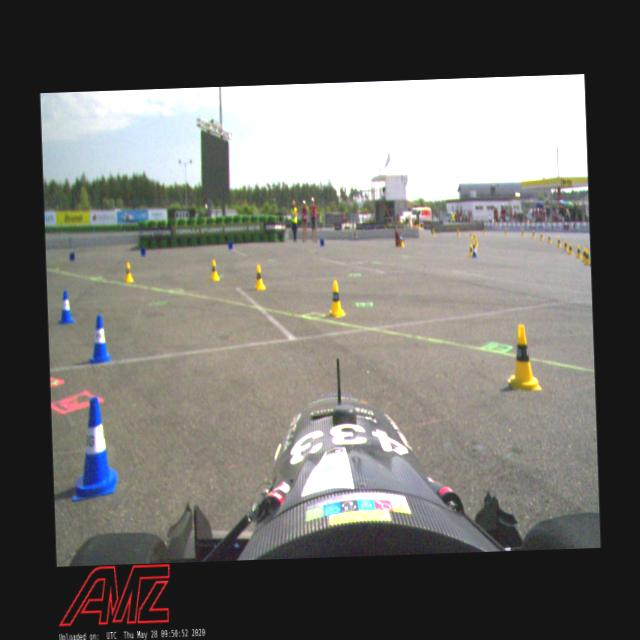blue_cone: (68, 396, 118, 502), (86, 314, 111, 364), (57, 288, 75, 324), (471, 244, 476, 258), (69, 252, 74, 261), (140, 247, 145, 256), (228, 241, 232, 249), (320, 238, 324, 246)
yellow_cone: (504, 322, 542, 390), (326, 279, 344, 318), (253, 264, 265, 290), (208, 258, 220, 280), (122, 261, 132, 281), (584, 248, 590, 264), (468, 242, 473, 256), (582, 247, 586, 261), (576, 244, 580, 258), (568, 242, 572, 255), (563, 239, 567, 251), (548, 233, 552, 243), (557, 236, 561, 246), (539, 231, 543, 240), (456, 226, 459, 237), (531, 230, 535, 238), (520, 229, 524, 236), (432, 227, 434, 236), (504, 228, 506, 236), (483, 226, 485, 234), (469, 230, 471, 238)
